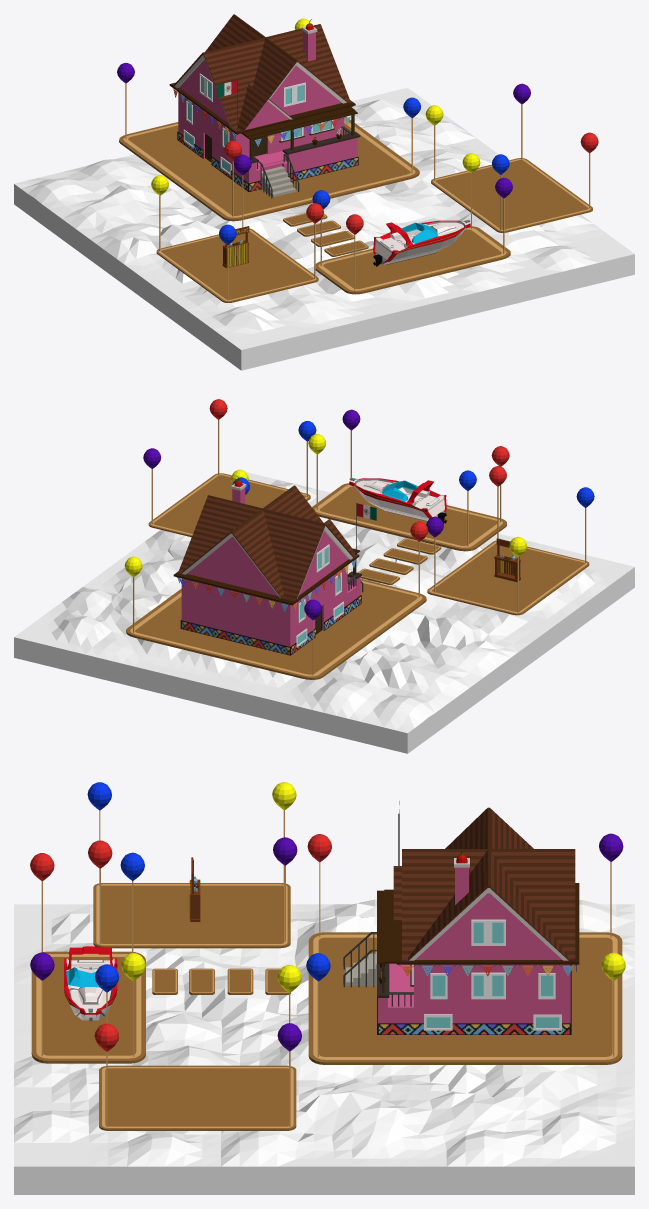
3 views of the same model, one above another, from view 1: azimuth 30°, elevation 25°; view 2: azimuth 150°, elevation 25°; view 3: azimuth 270°, elevation 25° (orthographic). The views are drawn at different scales.
Visible parts, largest first — view 1: Cube.013, Cube.1005, VEHICLES_BOAT, OBJRANDOM_LEMONADE_STAND; view 2: Cube.013, Cube.1005, VEHICLES_BOAT, OBJRANDOM_LEMONADE_STAND; view 3: Cube.013, Cube.1005, VEHICLES_BOAT, OBJRANDOM_LEMONADE_STAND.
Boxes of the visible parts, bbox=[...] form: Cube.013: bbox=[14, 18, 634, 370]; Cube.1005: bbox=[169, 14, 360, 198]; VEHICLES_BOAT: bbox=[373, 219, 470, 266]; OBJRANDOM_LEMONADE_STAND: bbox=[222, 226, 249, 268]; Cube.013: bbox=[14, 399, 634, 753]; Cube.1005: bbox=[173, 476, 376, 655]; VEHICLES_BOAT: bbox=[349, 477, 447, 523]; OBJRANDOM_LEMONADE_STAND: bbox=[494, 538, 520, 581]; Cube.013: bbox=[14, 782, 634, 1194]; Cube.1005: bbox=[343, 801, 579, 1034]; VEHICLES_BOAT: bbox=[64, 946, 117, 1021]; OBJRANDOM_LEMONADE_STAND: bbox=[189, 857, 200, 921].
Size of the model in its own units: 4000 by 1875 by 4000.
Materials: 65 (3 with a texture image).
